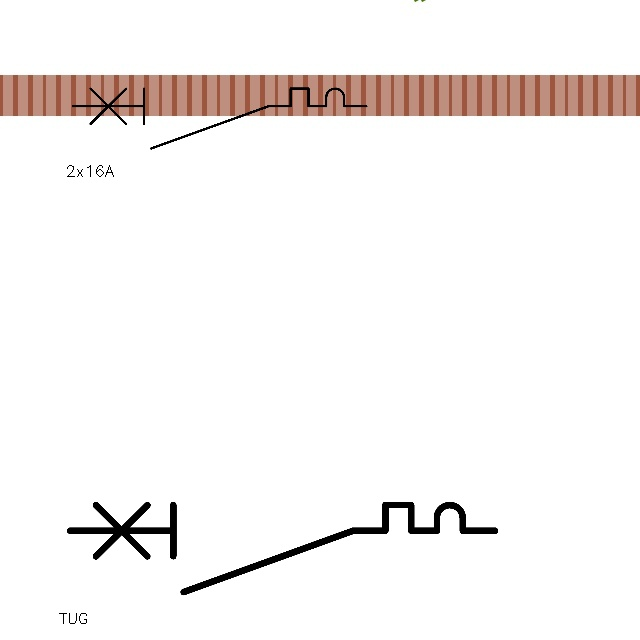interruptor_termomagnetico: (59, 494, 506, 603), (65, 81, 374, 156)
